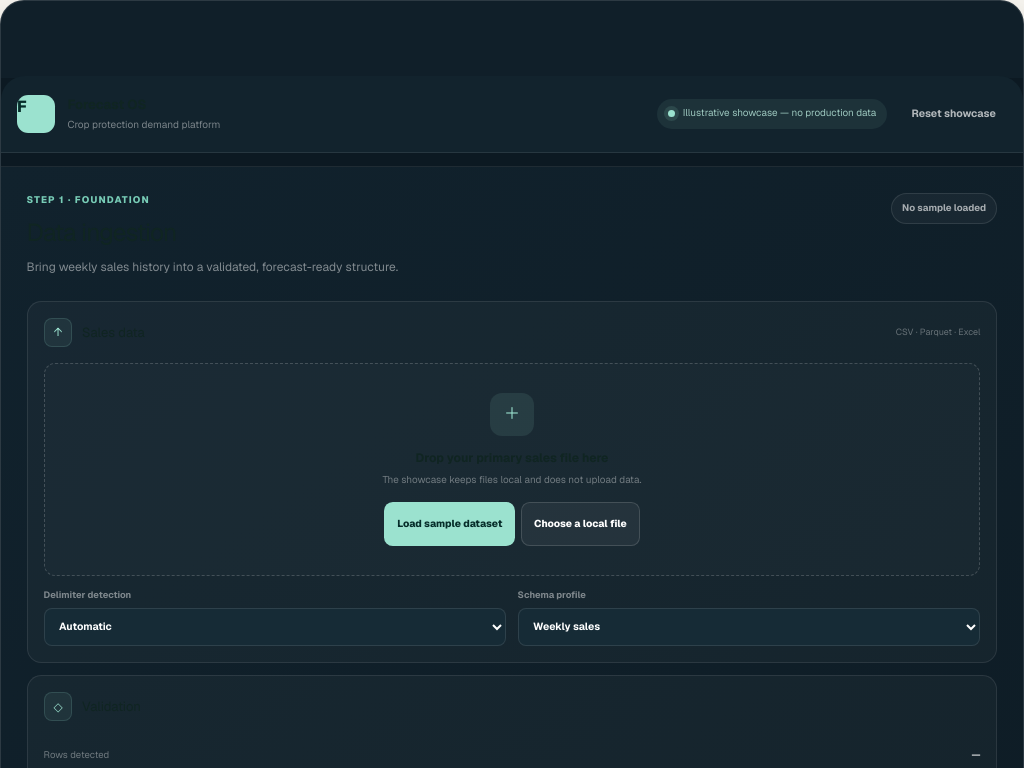
it: interactive forecasting showcase › resets the complete experience
Click the button "Load sample dataset". click: x=450, y=524
box: [384,502,516,546]
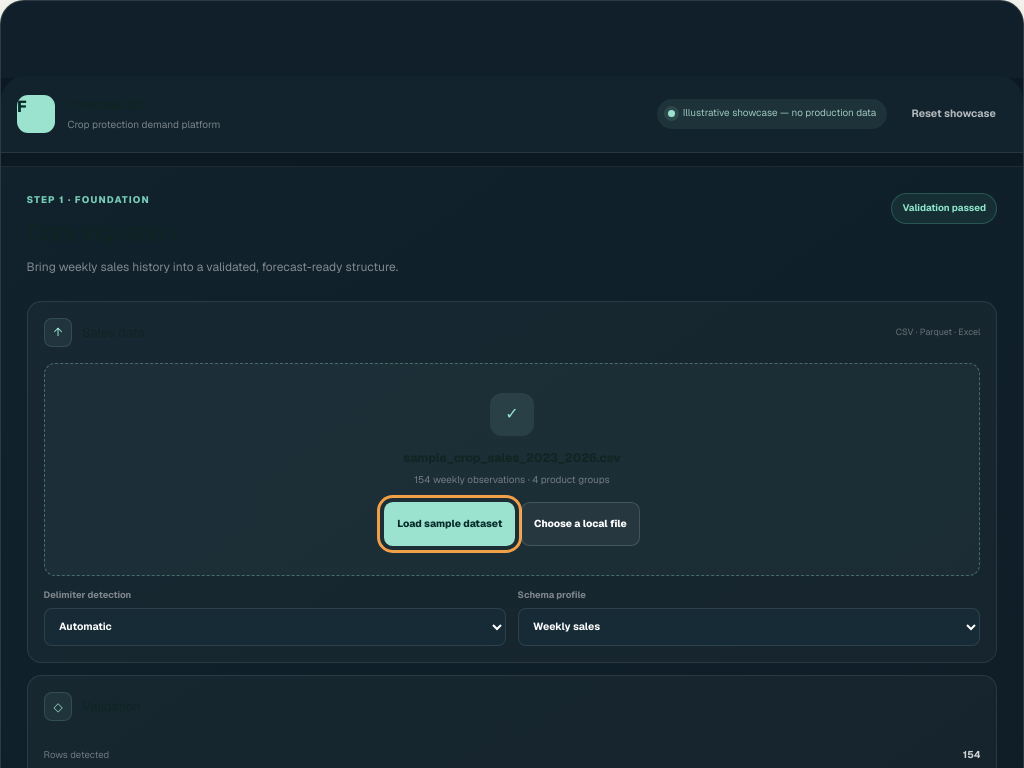
Click the button "Reset showcase". click: x=954, y=114
box: [900,92,1007,136]
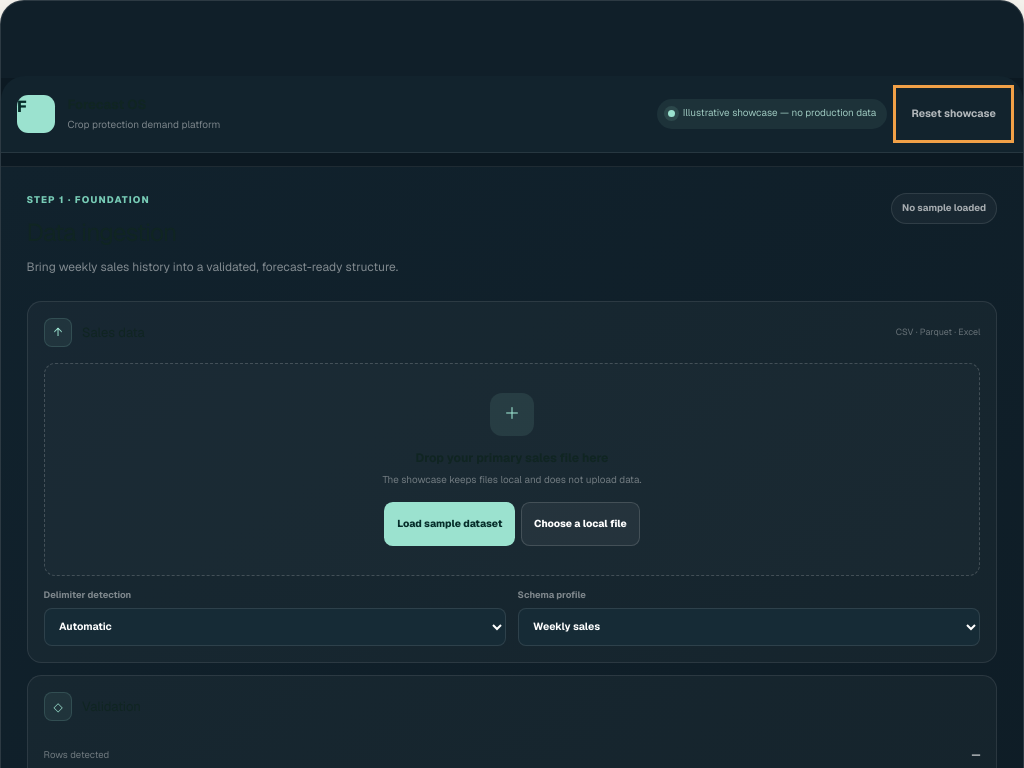
Expected: the text "No sample loaded" is shown, [891,193,998,224]
